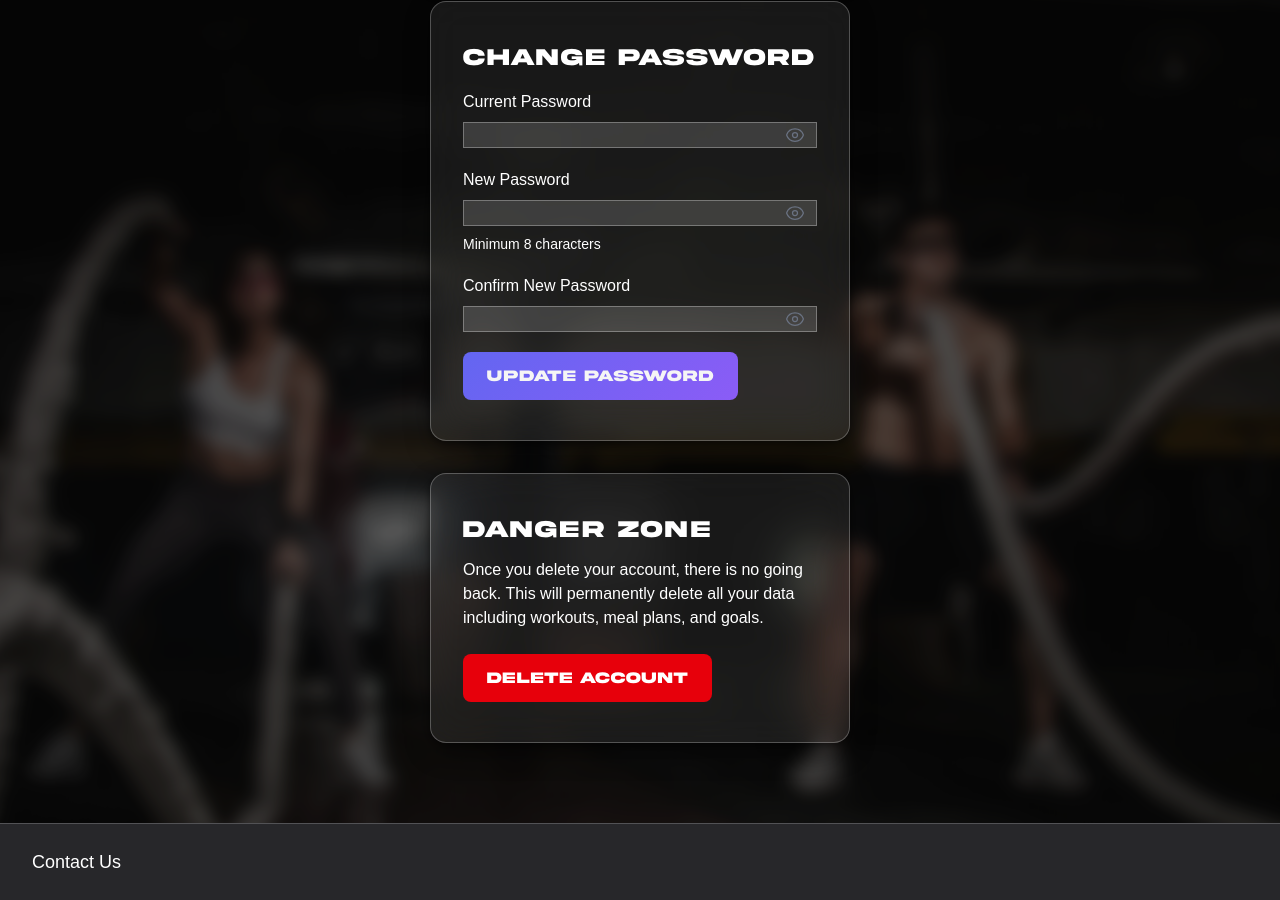
Settings Page › lists what will be deleted in confirmation modal
(page scrolled)
What coordinates should you click on to do the following:
click the button "Delete Account"
I would click on:
 (587, 678)
Its box is [463,654,712,702].
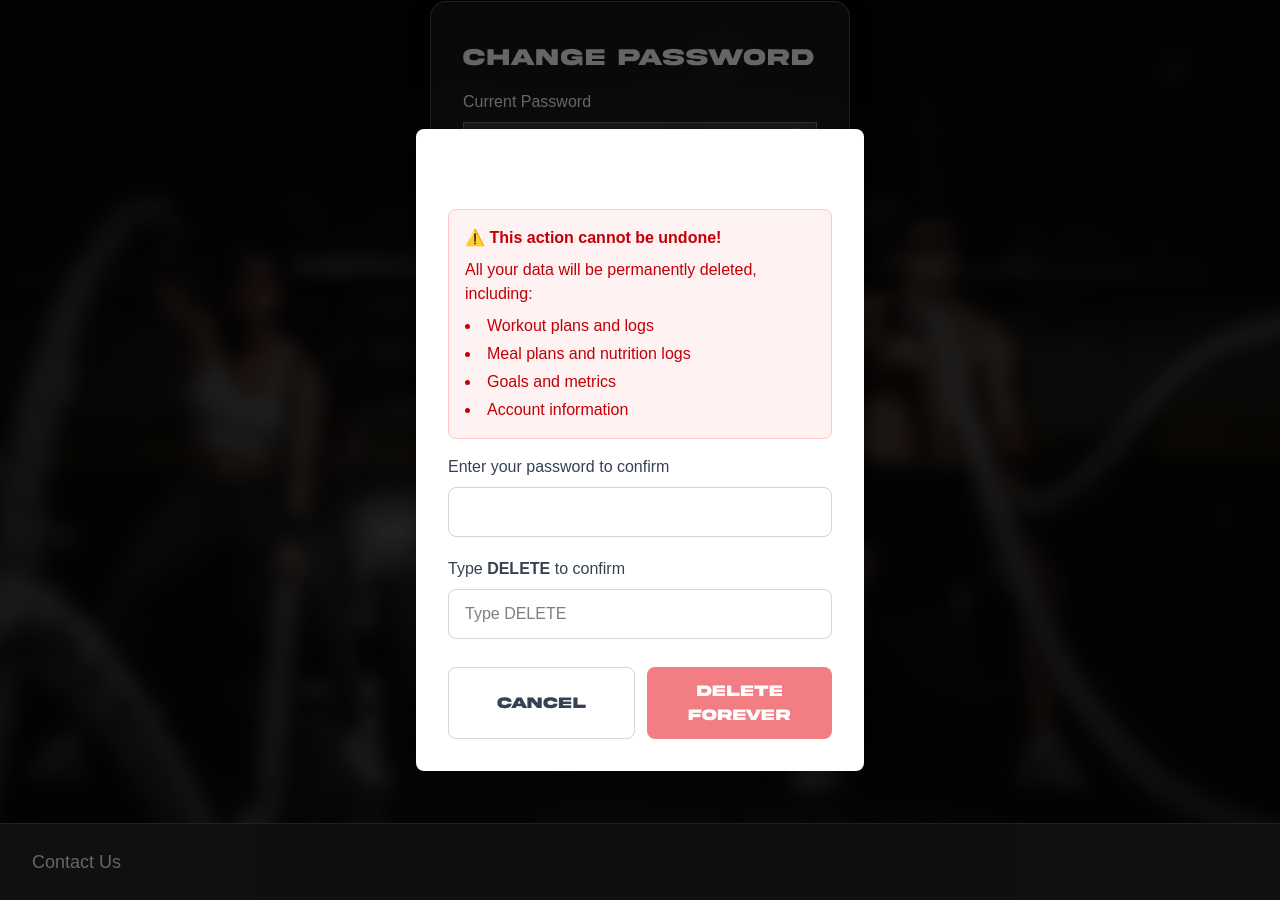
Expected: the list item "Workout plans and logs" is shown, [487,317,654,334]
Expected: the list item "Meal plans and nutrition logs" is shown, [487,345,691,362]
Expected: the list item "Goals and metrics" is shown, [487,373,616,390]
